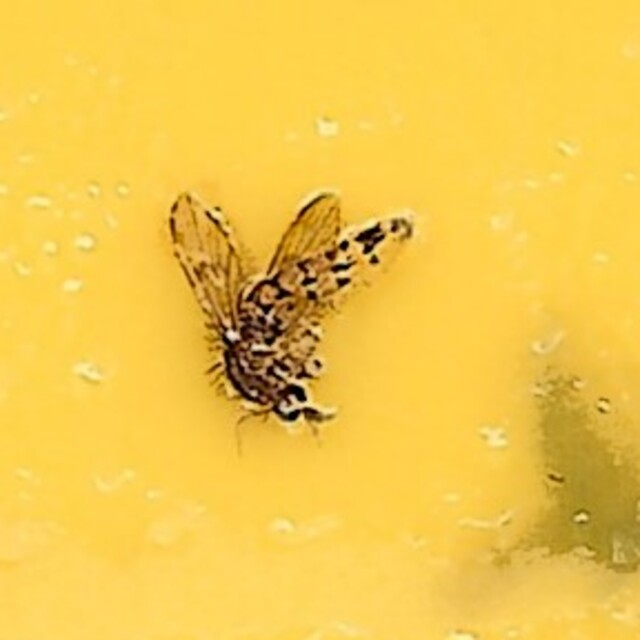Nematocera: (222, 215, 418, 425)
